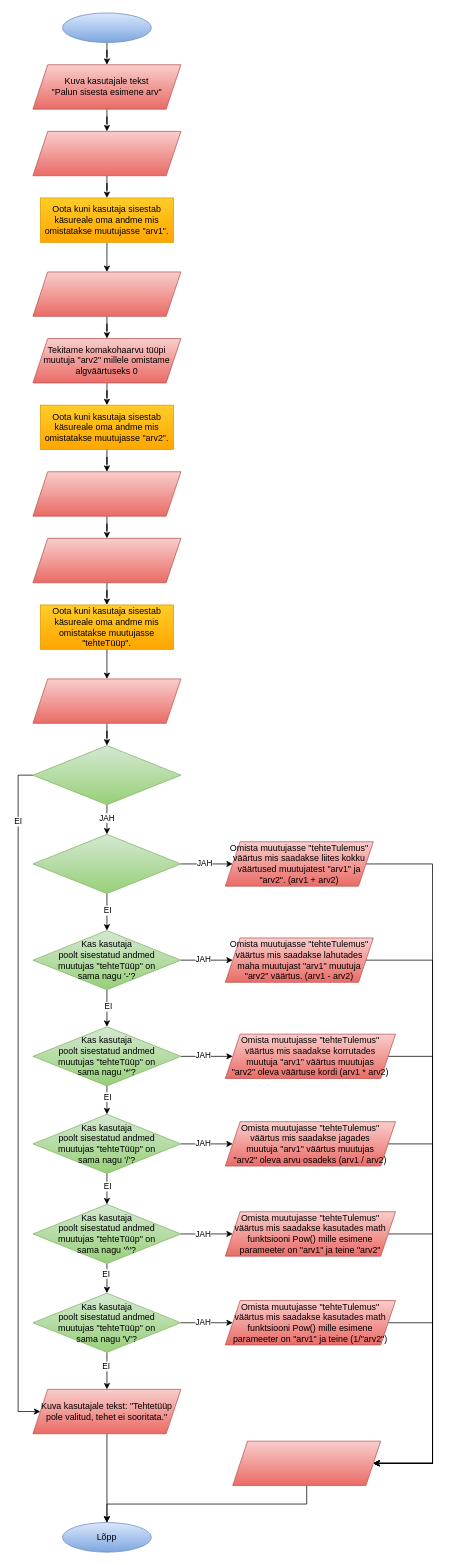
This 451x1565 diagram has some shape labels left out. Each missing label, with the centre of its shape:
algus: (106,27)
Kas kasutaja poolt on sisestatud andmed muutujasse "tehteTüüp" ?: (106,775)
Kas kasutaja poolt sisestatud andmed muutujas "tehteTüüp" on sama nagu '+'?: (106,864)
Kuva kasutajale tekst "Mis tüüpi tehet sa teha soovid. (+ - / * ^ V)": (106,493)
Kuva kasutajale tekst "Palun sisesta teine arv": (106,293)
Kuva kasutajale tekst: "Tehte tulemus on: arv1 tehteTüüp arv2 = tehteTulemus": (306,1463)
Tekita double-tüüpi muutuja "tehteTulemus" kuhu omistad algväärtuseks arvu 0: (106,700)
Tekita sõne-tüüpi muutuja "tehteTüüp" millele omistame algväärtuseks "": (106,560)
Tekitame komakohaarvu tüüpi muutuja "arv1" millele omistame algväärtuseks 0: (106,153)
